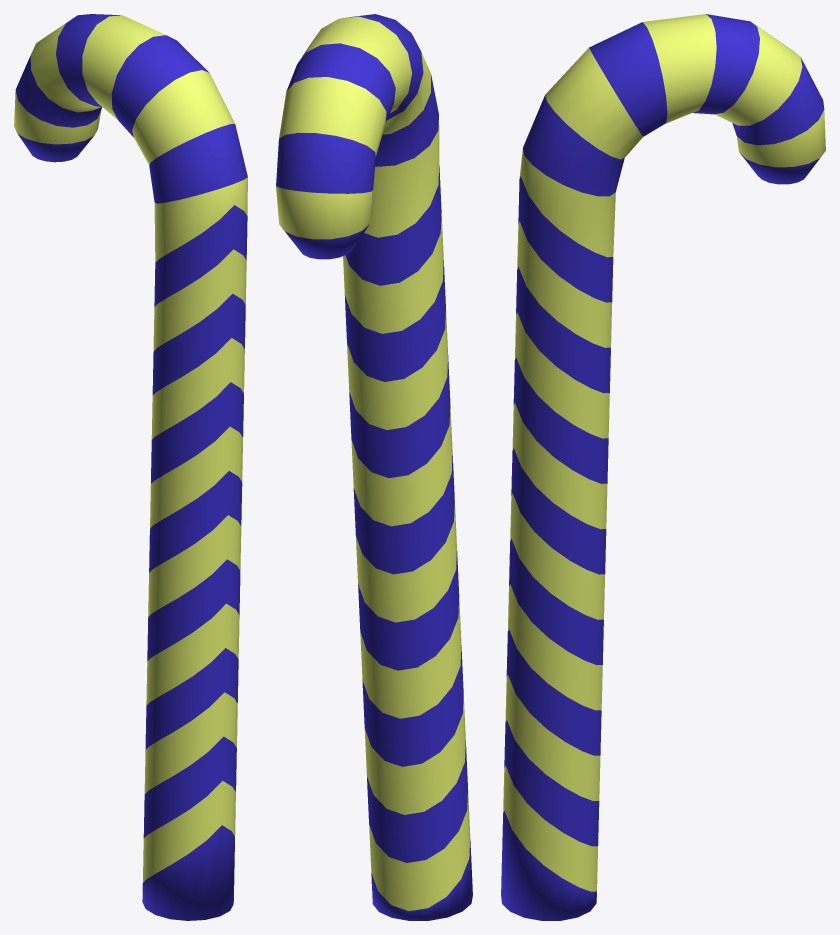
Rendered from candy_cane_yb4.fbx.
3 views of the same model, side by side, from view 1: azimuth 30°, elevation 25°; view 2: azimuth 150°, elevation 25°; view 3: azimuth 270°, elevation 25° (orthographic). The views are drawn at different scales.
Visible parts, largest first — view 1: Cylinder; view 2: Cylinder; view 3: Cylinder.
Boxes of the visible parts, x1,y1,x2,y2 form: Cylinder: (14,14,247,920); Cylinder: (276,14,472,920); Cylinder: (501,14,825,920).
Size of the model in its own units: 294 by 1911 by 639.
